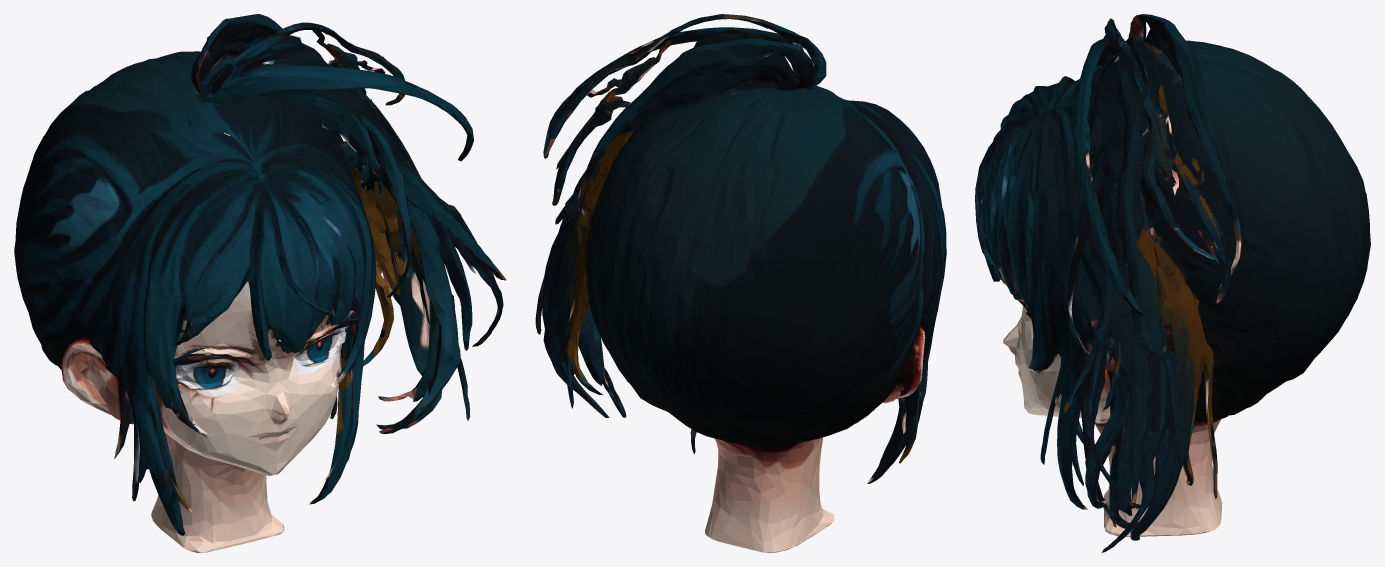
Rendered from side_sakura_repaired_atlas.glb.
3 renders of one model, left to right at view 1: azimuth 30°, elevation 25°; view 2: azimuth 150°, elevation 25°; view 3: azimuth 270°, elevation 25°, orthographic. The views are drawn at different scales.
Visible parts, largest first — view 1: temp_mesh.ply; view 2: temp_mesh.ply; view 3: temp_mesh.ply.
Boxes of the visible parts, <box> form: temp_mesh.ply: <box>14,14,506,552</box>; temp_mesh.ply: <box>535,14,946,552</box>; temp_mesh.ply: <box>975,14,1370,552</box>.
Size of the model in its own units: 1.74 by 1.97 by 1.42.
Materials: 1 (1 with a texture image).
